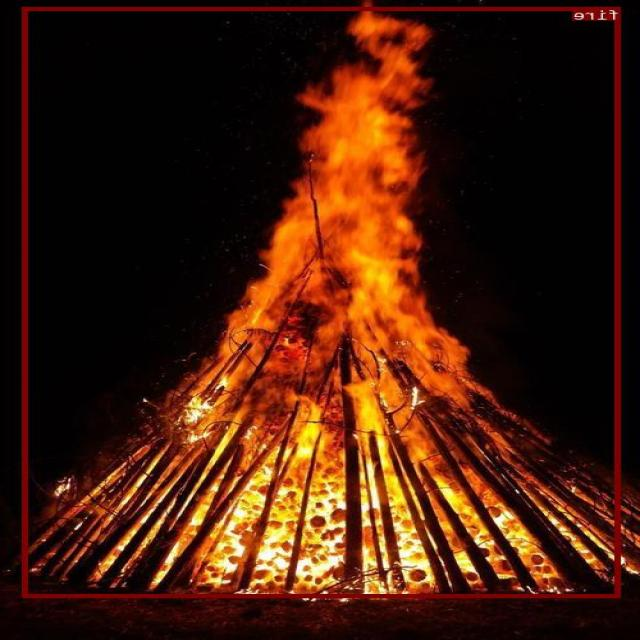fire: (24, 7, 622, 597)
